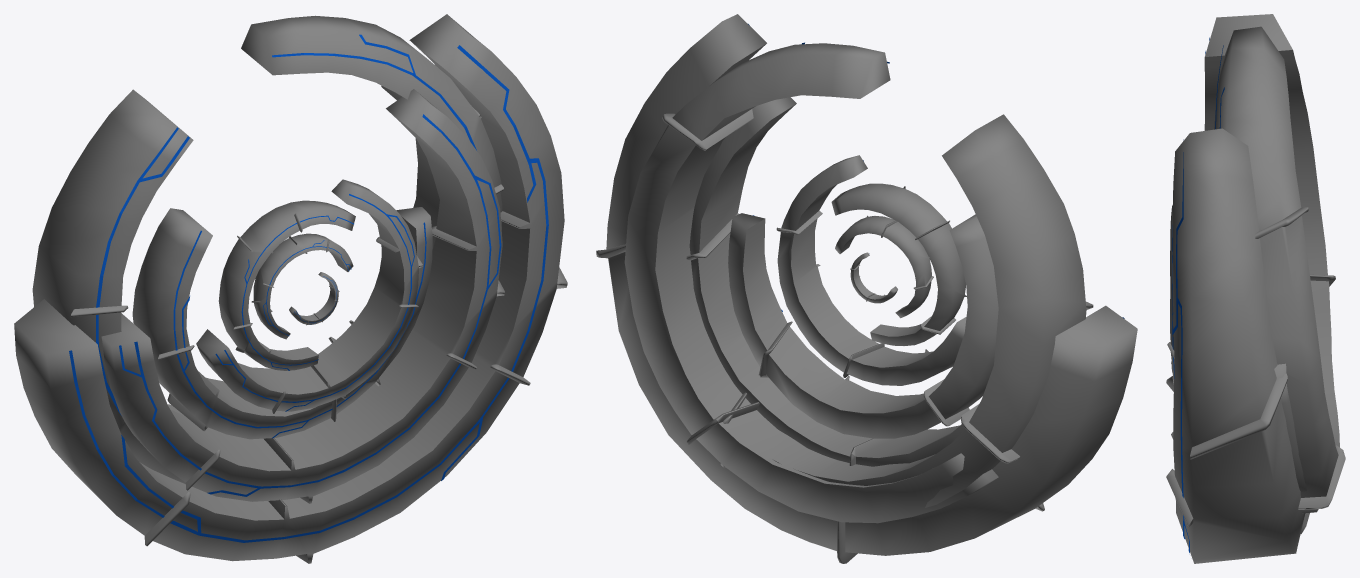
The model's file is AncientStructure.fbx.
The picture shows the model from 3 angles, left to right: view 1: azimuth 30°, elevation 25°; view 2: azimuth 150°, elevation 25°; view 3: azimuth 270°, elevation 25°; orthographic projection. The views are drawn at different scales.
Parts seen in each view (by area): view 1: Background02, Background05, Background01, Background06, Background08, Background09, Emissive, Background07, Background03, Background04; view 2: Background09, Background02, Background01, Background06, Background05, Background08, Background07, Background03, Background04; view 3: Background02, Background09, Background01, Emissive, Background08.
Part boxes in pixels (x1,y1,x2,y2): Background02: (14, 14, 567, 563); Background05: (101, 89, 504, 503); Background01: (32, 89, 193, 483); Background06: (132, 207, 432, 439); Background08: (196, 179, 422, 413); Background09: (241, 15, 503, 342); Emissive: (69, 34, 548, 542); Background07: (218, 200, 355, 370); Background03: (251, 233, 353, 339); Background04: (289, 272, 339, 325); Background09: (624, 43, 998, 523); Background02: (596, 14, 1137, 563); Background01: (720, 114, 1093, 507); Background06: (728, 213, 998, 438); Background05: (686, 97, 964, 466); Background08: (776, 155, 966, 385); Background07: (831, 183, 966, 345); Background03: (835, 215, 933, 318); Background04: (850, 252, 897, 303); Background02: (1166, 128, 1309, 563); Background09: (1214, 26, 1345, 509); Background01: (1204, 14, 1335, 513); Emissive: (1172, 37, 1224, 552); Background08: (1167, 205, 1174, 380).
Size of the model in its own units: 129 by 122 by 38.86.
